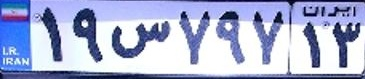character: (107, 12, 173, 61), (174, 2, 212, 70), (249, 3, 286, 70), (66, 4, 105, 65), (215, 4, 247, 71), (328, 19, 365, 70), (37, 2, 65, 66), (298, 17, 323, 70)
